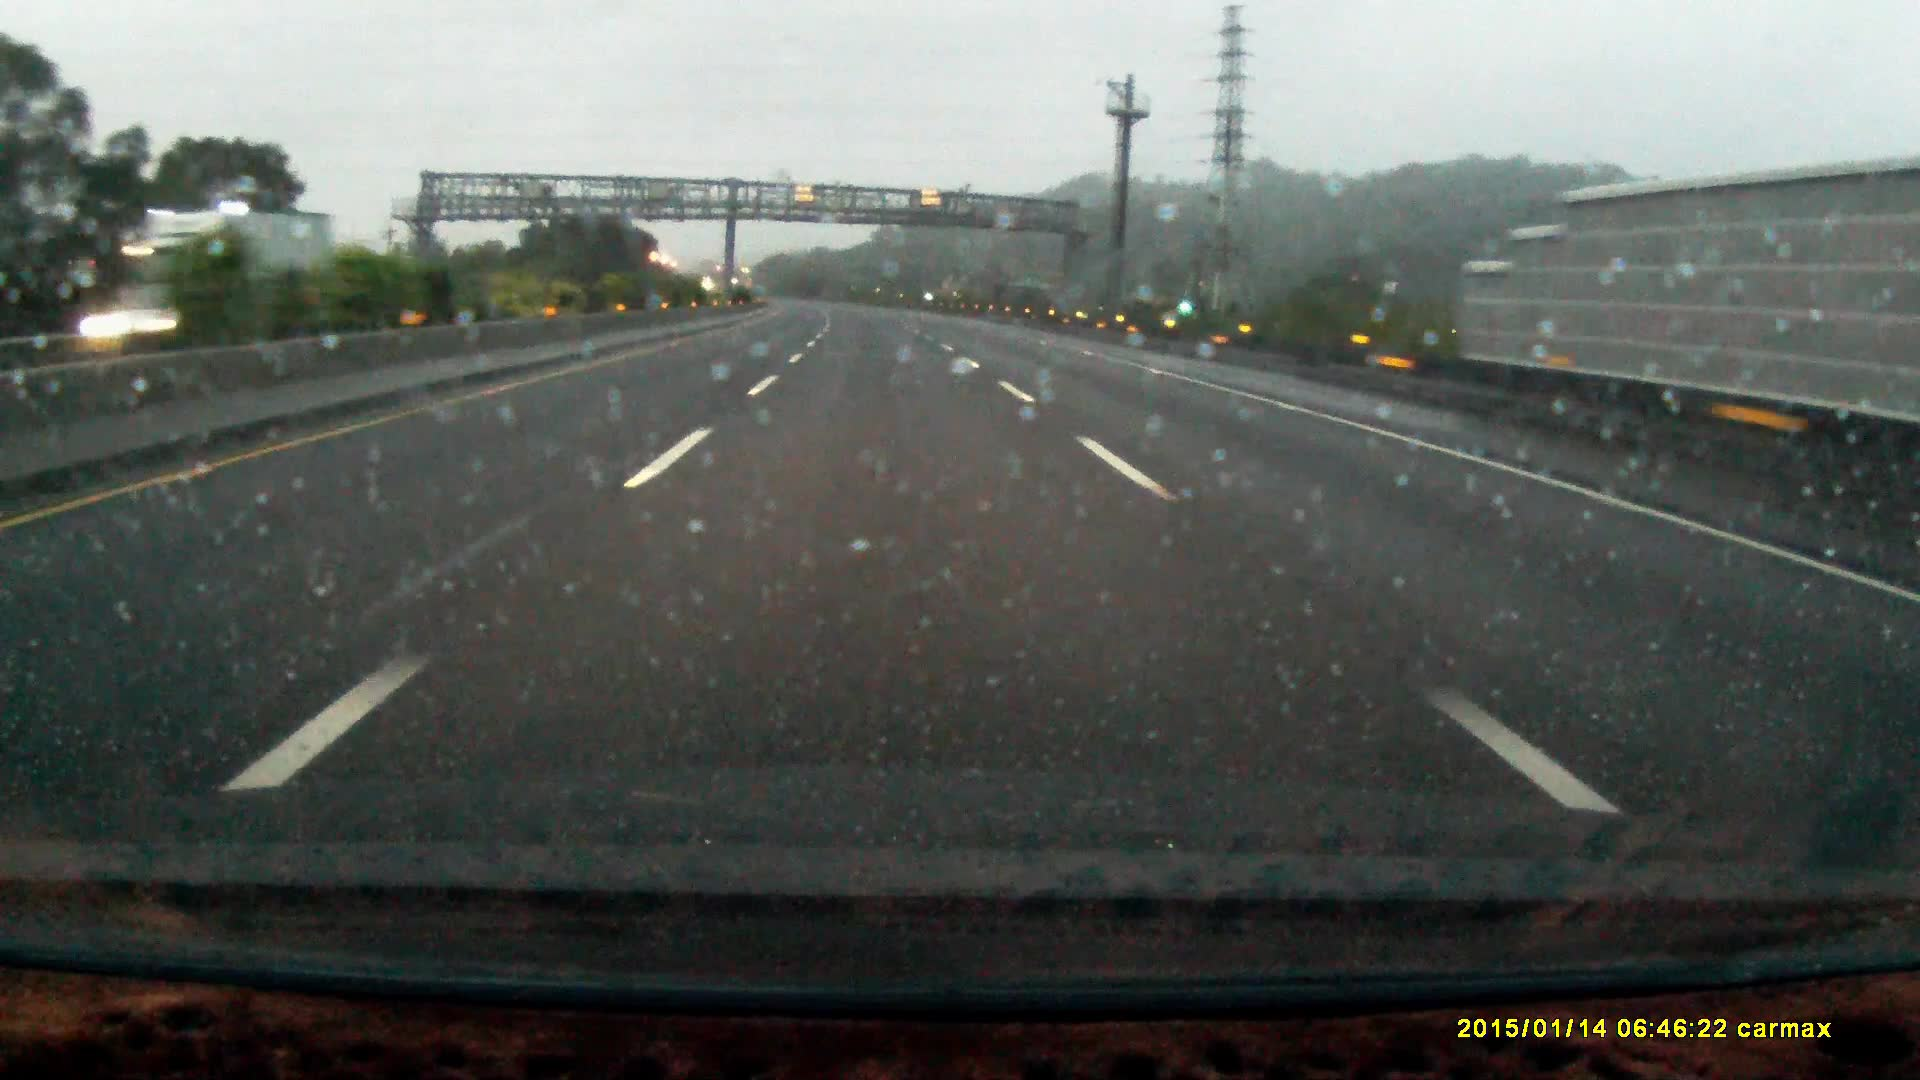vehicle: (115, 211, 324, 328), (71, 284, 198, 373)
